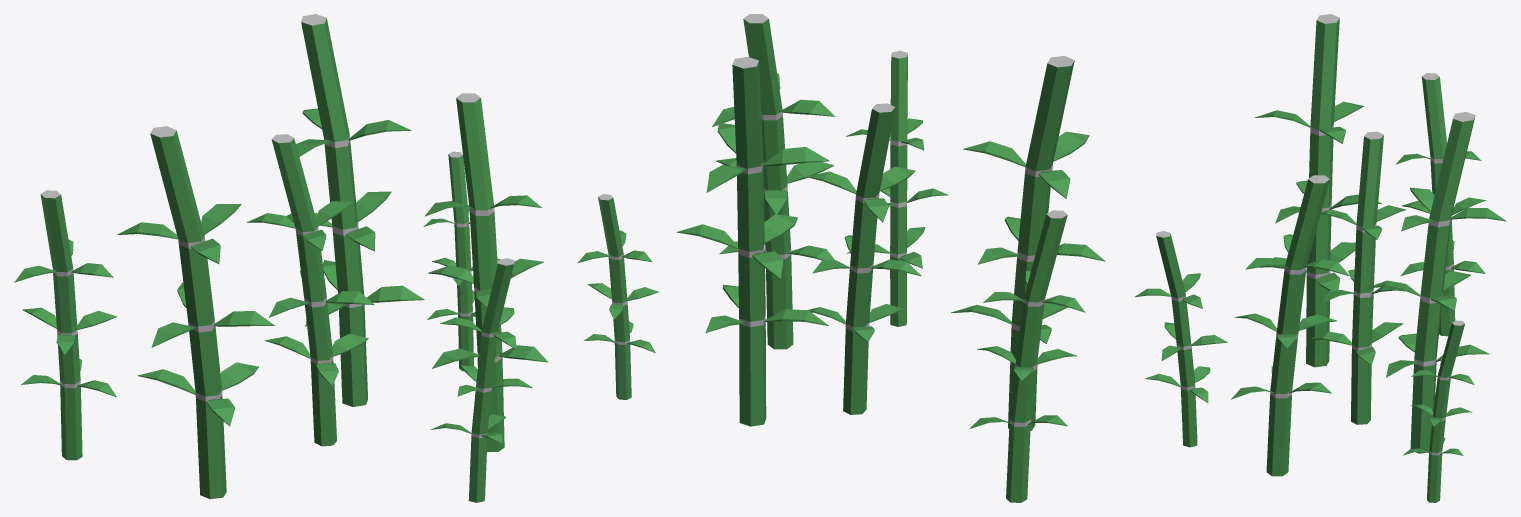
Rendered from Bambu.fbx.
The picture shows the model from 3 angles, left to right: view 1: azimuth 30°, elevation 25°; view 2: azimuth 150°, elevation 25°; view 3: azimuth 270°, elevation 25°; orthographic projection. The views are drawn at different scales.
Parts seen in each view (by area): view 1: Plane.012, Plane.017, Plane.011, Plane.008, Plane.013, Plane.010, Plane.009; view 2: Plane.017, Plane.012, Plane.011, Plane.008, Plane.013, Plane.010, Plane.009; view 3: Plane.017, Plane.012, Plane.008, Plane.011, Plane.010, Plane.013, Plane.009.
Boxes of the visible parts, x1=… form: Plane.012: x1=117, y1=126, x2=274, y2=499; Plane.017: x1=286, y1=14, x2=424, y2=406; Plane.011: x1=247, y1=134, x2=374, y2=446; Plane.008: x1=424, y1=93, x2=548, y2=451; Plane.013: x1=14, y1=190, x2=117, y2=460; Plane.010: x1=430, y1=258, x2=532, y2=502; Plane.009: x1=423, y1=151, x2=500, y2=371; Plane.017: x1=676, y1=56, x2=829, y2=426; Plane.012: x1=951, y1=56, x2=1105, y2=430; Plane.011: x1=806, y1=103, x2=921, y2=414; Plane.008: x1=712, y1=14, x2=835, y2=349; Plane.013: x1=969, y1=210, x2=1085, y2=502; Plane.010: x1=846, y1=50, x2=948, y2=326; Plane.009: x1=577, y1=194, x2=658, y2=399; Plane.017: x1=1366, y1=112, x2=1506, y2=453; Plane.012: x1=1255, y1=14, x2=1381, y2=367; Plane.008: x1=1231, y1=175, x2=1349, y2=476; Plane.011: x1=1310, y1=131, x2=1405, y2=424; Plane.010: x1=1134, y1=231, x2=1227, y2=447; Plane.013: x1=1395, y1=73, x2=1485, y2=336; Plane.009: x1=1402, y1=320, x2=1474, y2=502.
Bounding box in the file's own units: 407 × 296 × 307.
